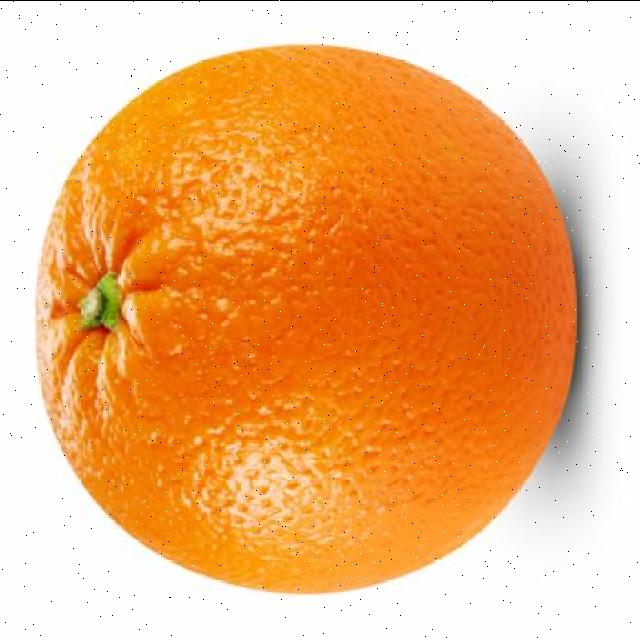Orange: (32, 42, 580, 596)
